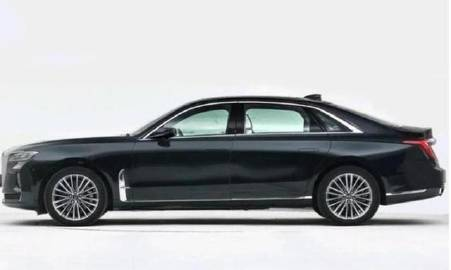other: (2, 93, 448, 228)
